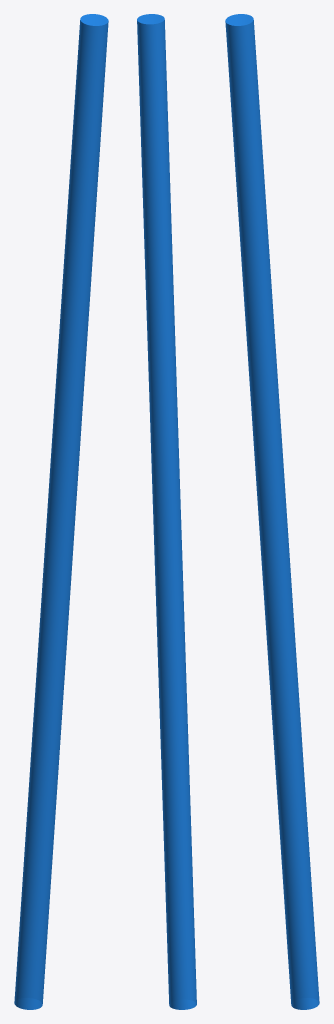
File: Event_420094457_MET.fbx
3 renders of one model, left to right at view 1: azimuth 90°, elevation 25°; view 2: azimuth 210°, elevation 25°; view 3: azimuth 270°, elevation 25°, orthographic. The views are drawn at different scales.
Parts seen in each view (by area): view 1: Model; view 2: Model; view 3: Model.
Boxes of the visible parts, <box> form: Model: <box>14,14,108,1009</box>; Model: <box>137,14,196,1009</box>; Model: <box>225,14,319,1009</box>.
Size of the model in its own units: 0.04 by 1.53 by 0.1325.
